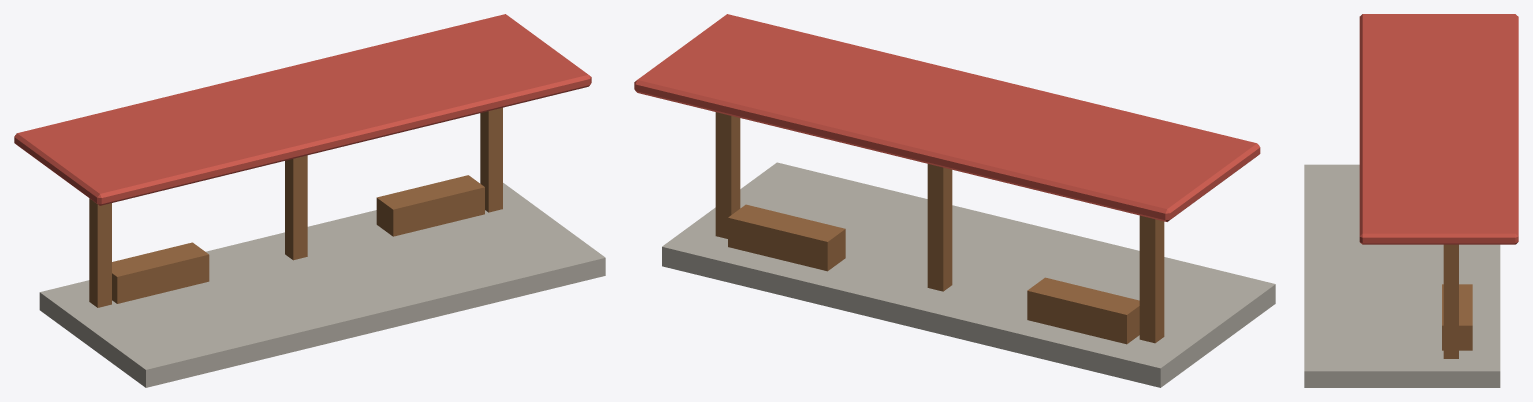
Rendered from station.fbx.
3 renders of one model, left to right at view 1: azimuth 30°, elevation 25°; view 2: azimuth 150°, elevation 25°; view 3: azimuth 270°, elevation 25°, orthographic. The views are drawn at different scales.
Parts seen in each view (by area): view 1: station; view 2: station; view 3: station.
Part boxes in pixels (left/top/right/bottom): station: left=14, top=14, right=605, bottom=387; station: left=634, top=14, right=1275, bottom=387; station: left=1304, top=14, right=1518, bottom=387.
Size of the model in its own units: 8.6 by 2.9 by 3.5.
